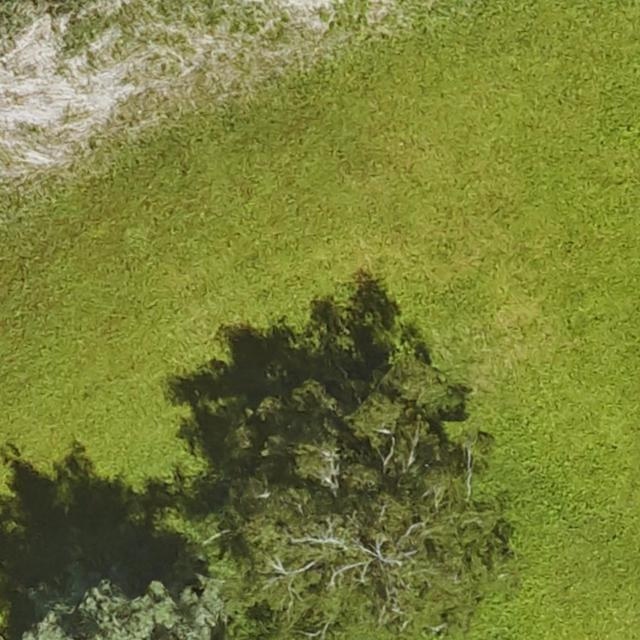tree: (235, 357, 499, 639), (20, 577, 227, 640)
